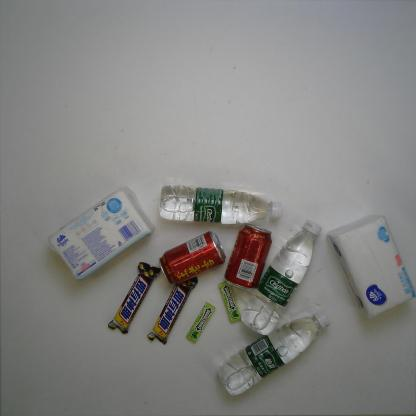Chocolate: (110, 259, 162, 335), (148, 278, 200, 344)
Drink: (216, 310, 332, 396), (241, 218, 322, 336), (157, 183, 282, 225), (158, 231, 224, 285), (224, 226, 274, 290)
Gum: (187, 300, 215, 341), (218, 281, 240, 323)
Tissue: (328, 212, 414, 321), (51, 188, 151, 280)
